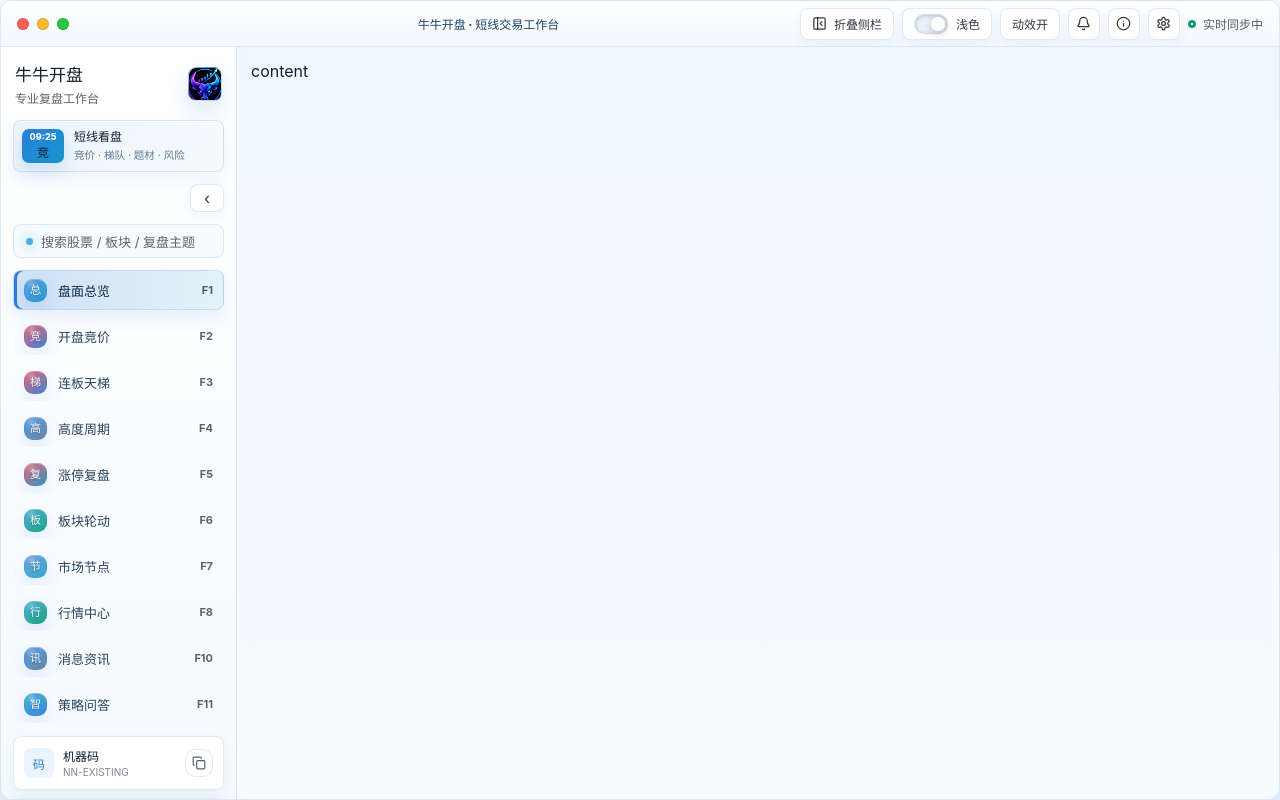
it: AppShell › keeps settings and message center reachable when the sidebar is collapsed
Step 1. Click the button named "折叠侧边栏" → point(207, 198), box [190,184,224,212]
(page scrolled)
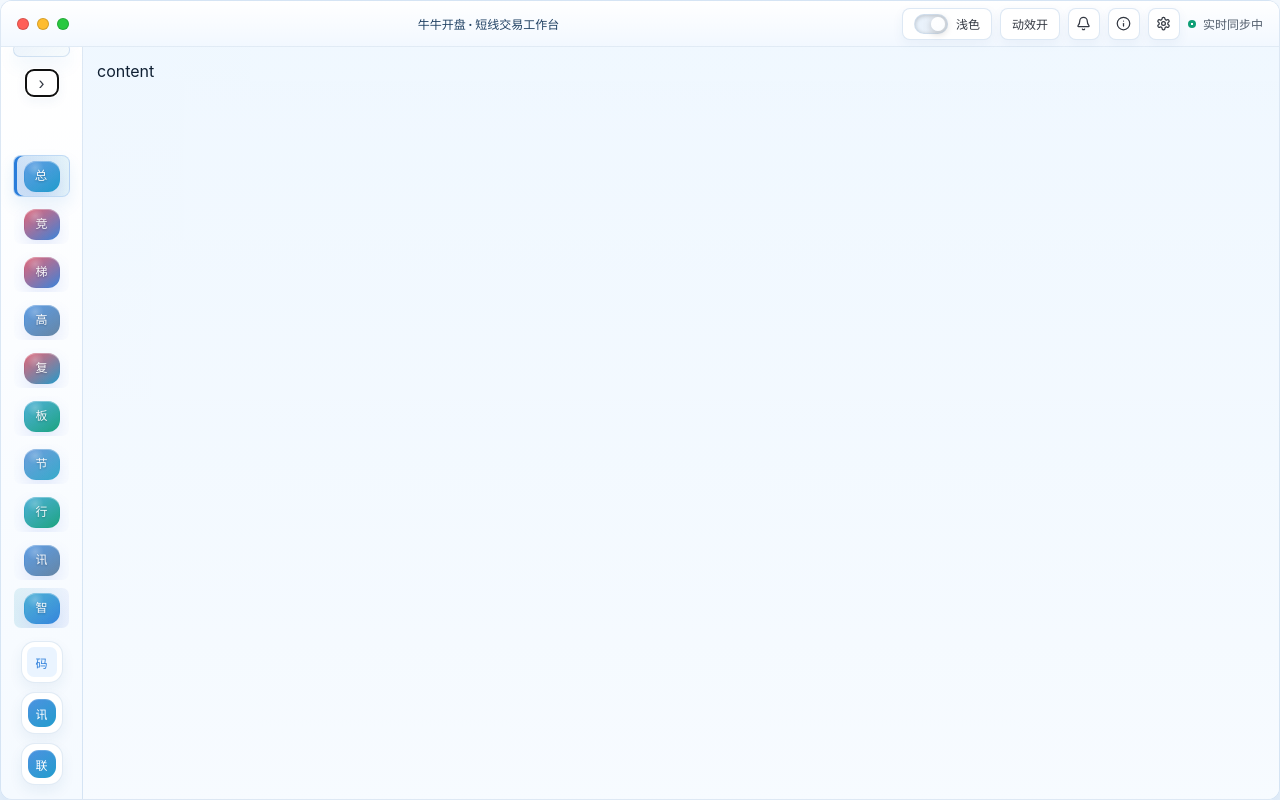
Step 2. Click the button named "打开联动设置" → point(42, 764), box [20,743,62,785]
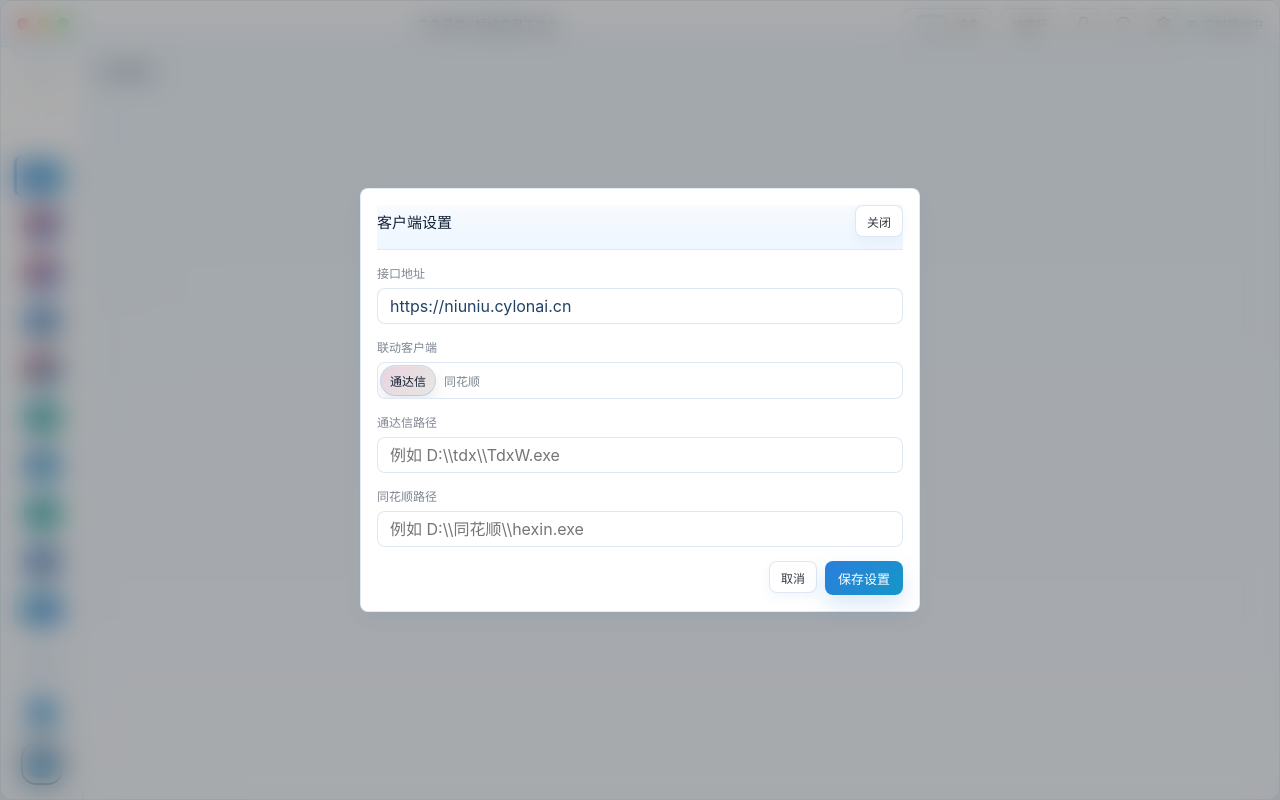
Result: the dialog "客户端设置" is shown at [360,188,920,612]
Step 3. Click the button with aria-label "关闭设置" → point(879, 221), box [855,205,903,237]
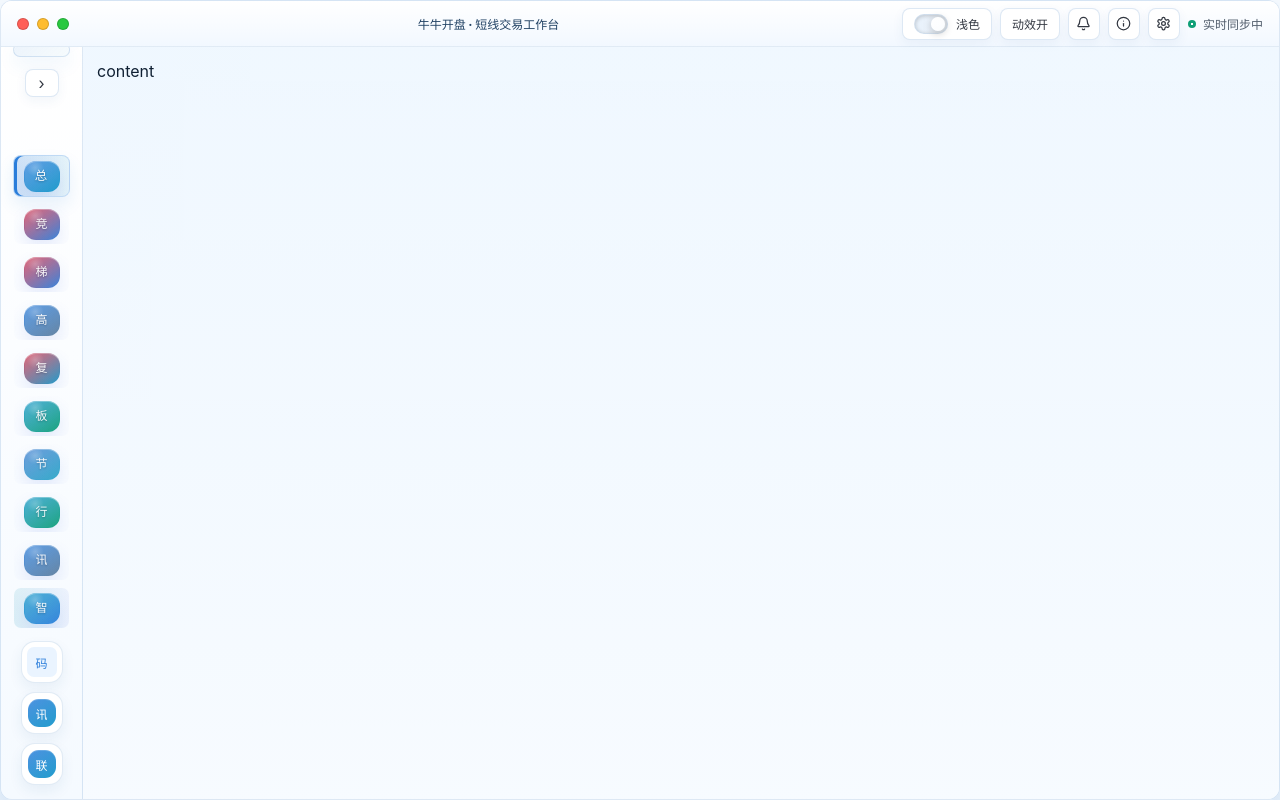
Step 4. Click the button named "打开消息中心" → point(42, 713), box [20,692,62,734]
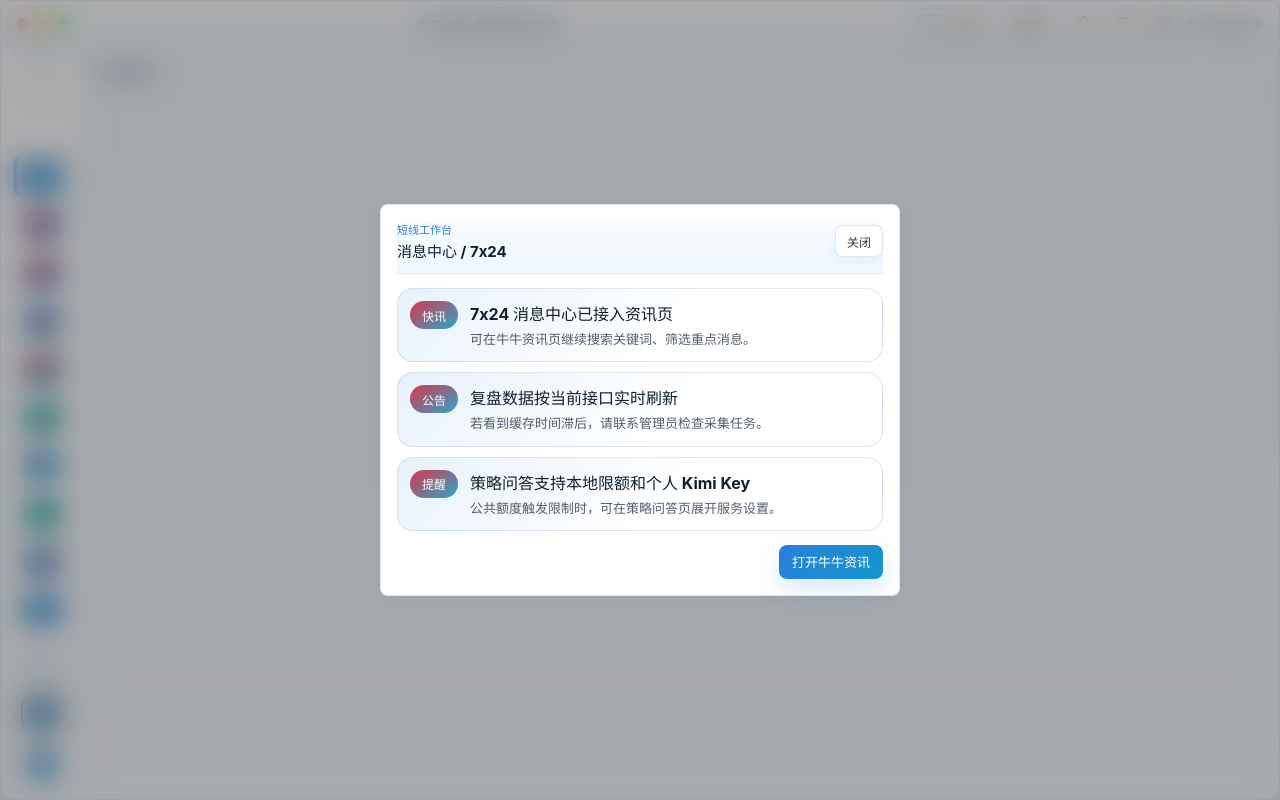
Result: the dialog "消息中心 / 7x24" is shown at [380,204,900,596]
